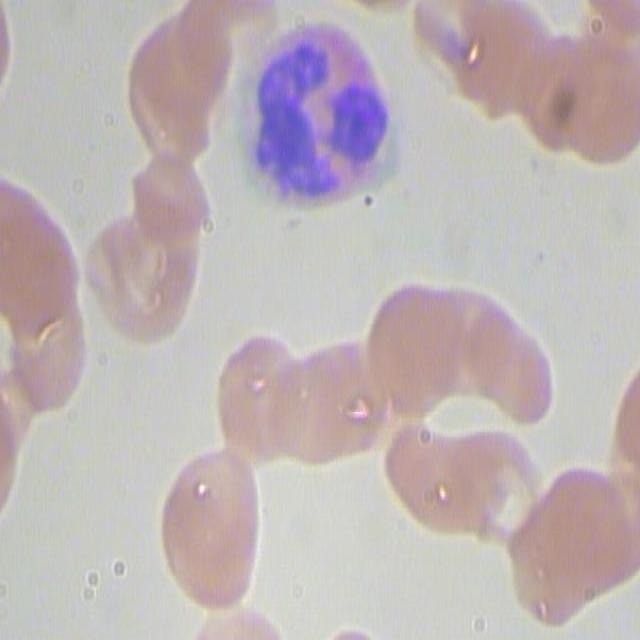RBC: (216, 334, 392, 482), (78, 146, 202, 349), (516, 2, 640, 170), (508, 464, 638, 624), (0, 170, 80, 416), (158, 446, 261, 614), (125, 8, 224, 168), (459, 432, 542, 549)
WBC: (244, 24, 390, 207)
